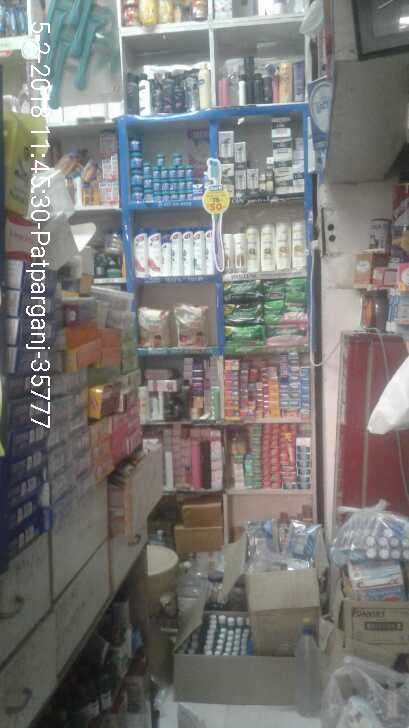beauty: (290, 220, 305, 268), (277, 220, 290, 269), (147, 232, 161, 275), (135, 231, 146, 275), (261, 225, 272, 268), (170, 232, 180, 276), (270, 117, 290, 138), (183, 231, 193, 273), (249, 226, 259, 267), (235, 232, 246, 269), (218, 132, 233, 159), (195, 230, 203, 273), (273, 142, 292, 159), (223, 234, 232, 269), (221, 166, 233, 191), (234, 172, 246, 193), (164, 239, 171, 275), (248, 172, 259, 192), (274, 162, 290, 175), (235, 144, 244, 165), (276, 177, 292, 185), (223, 234, 233, 235), (272, 268, 276, 269)
pharmacy: (224, 282, 262, 305), (264, 326, 304, 343), (225, 306, 262, 323), (226, 327, 263, 340), (287, 282, 305, 301), (266, 282, 284, 299), (128, 187, 146, 203), (283, 303, 304, 316), (126, 135, 142, 152), (129, 171, 144, 187), (266, 306, 286, 318), (128, 154, 141, 170), (171, 151, 183, 164), (191, 183, 204, 195), (142, 161, 152, 174), (156, 152, 165, 164), (153, 167, 161, 178), (159, 167, 167, 178), (177, 167, 185, 178), (168, 167, 175, 177), (185, 168, 193, 176), (178, 180, 185, 189), (187, 179, 192, 189), (153, 190, 159, 198)
